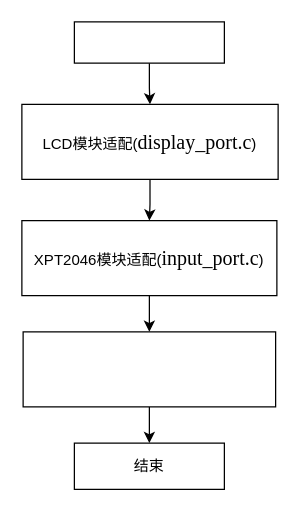
Some shapes in this 300 by 511 pixel diagram are drawn without their labels. The shapes that lost their labels are listed below. From the top down, each one's centre as x and y in pixels, then its label:
(148,42): LVGL移植
(149,369): FATFS文件系统适配(lv_fs_fatfs.c)
